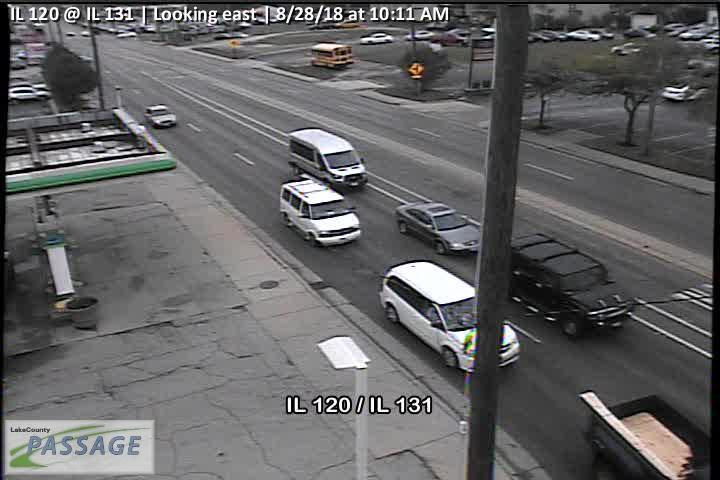Bus: (310, 42, 354, 66)
SUV: (379, 261, 519, 369), (496, 233, 634, 337), (279, 180, 362, 247), (288, 127, 369, 192), (8, 86, 52, 105)
Sedan: (394, 201, 485, 256), (661, 83, 709, 102), (143, 104, 177, 128), (565, 29, 600, 42), (360, 32, 393, 44), (405, 30, 435, 40)
